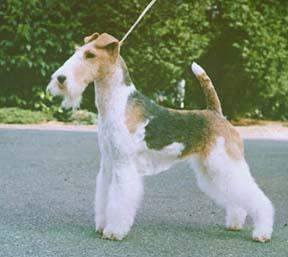wire-haired_fox_terrier: (45, 30, 276, 243)
